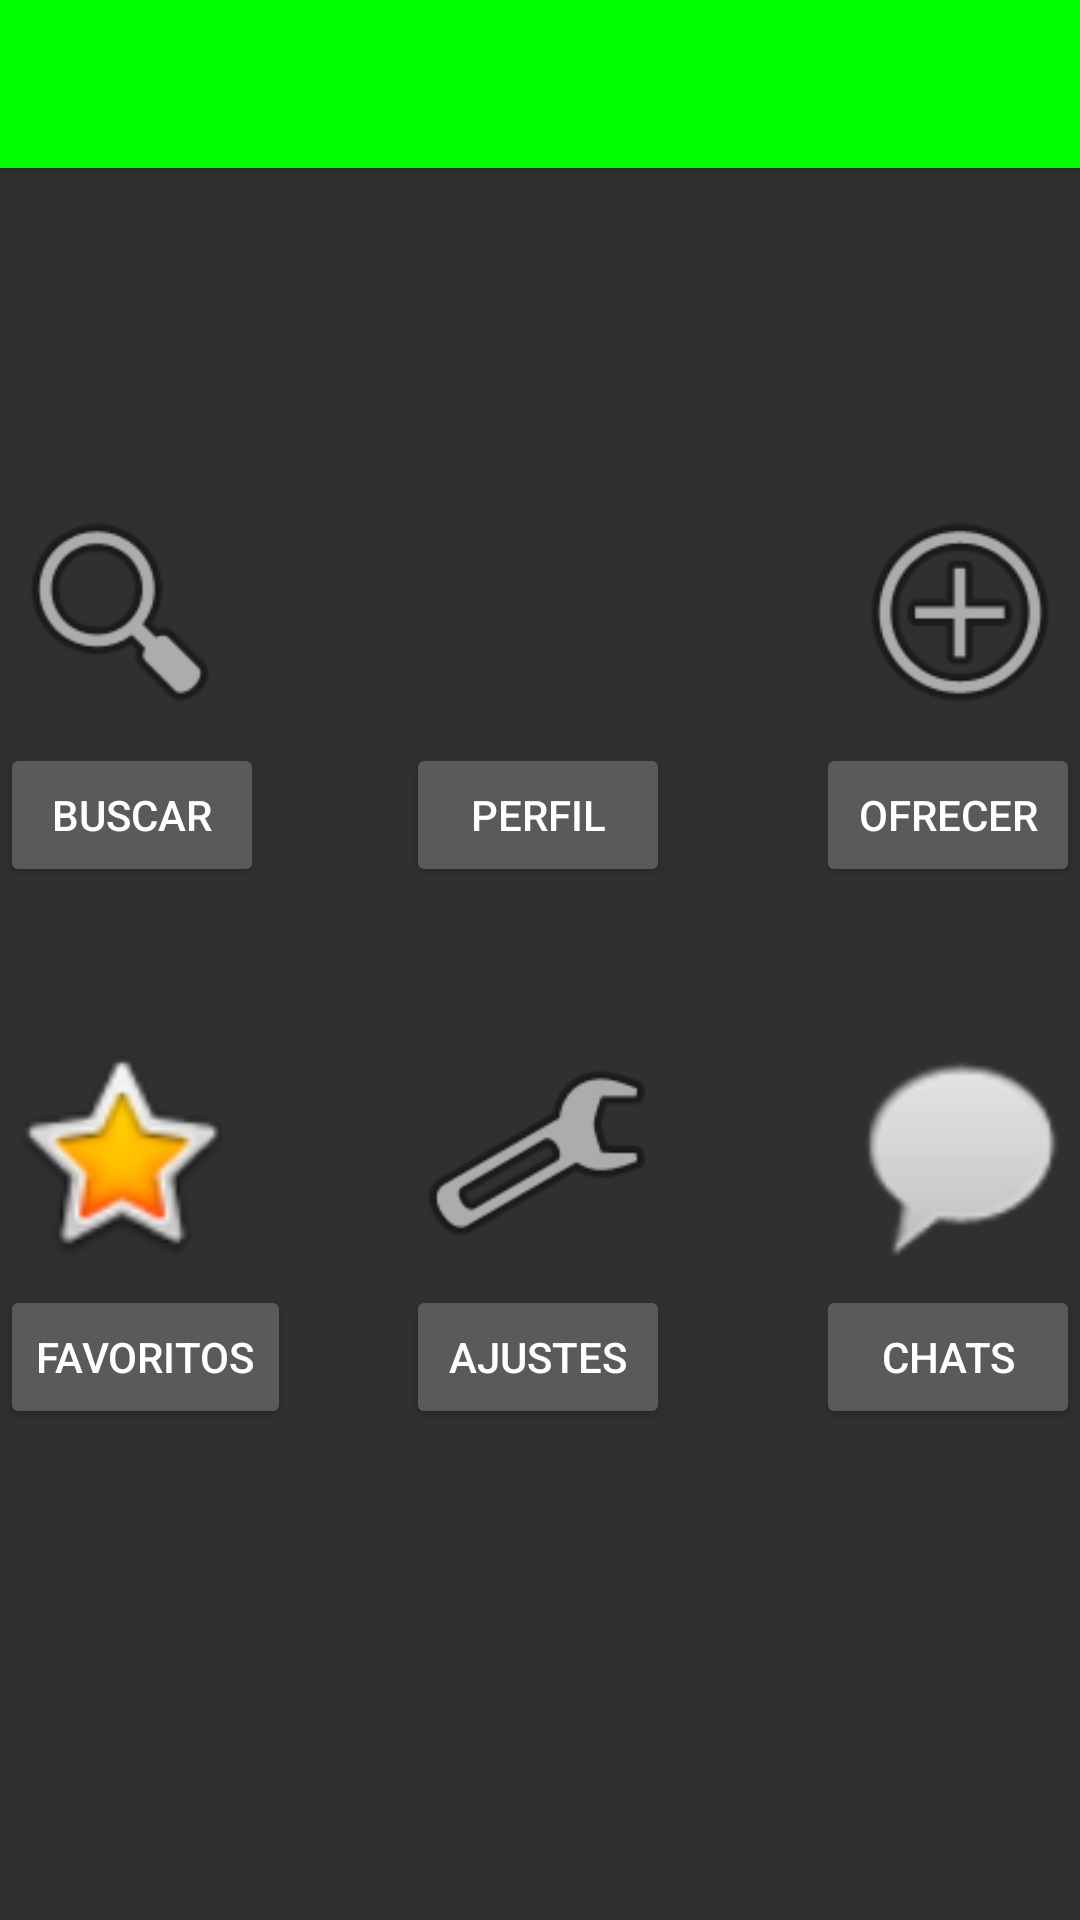

Where to tap for icons on this 1080 x 1920 app screen, as [x,y]:
add: [960,611]
preferences: [537,1153]
search: [120,611]
star on: [123,1152]
sym action chat: [962,1159]
